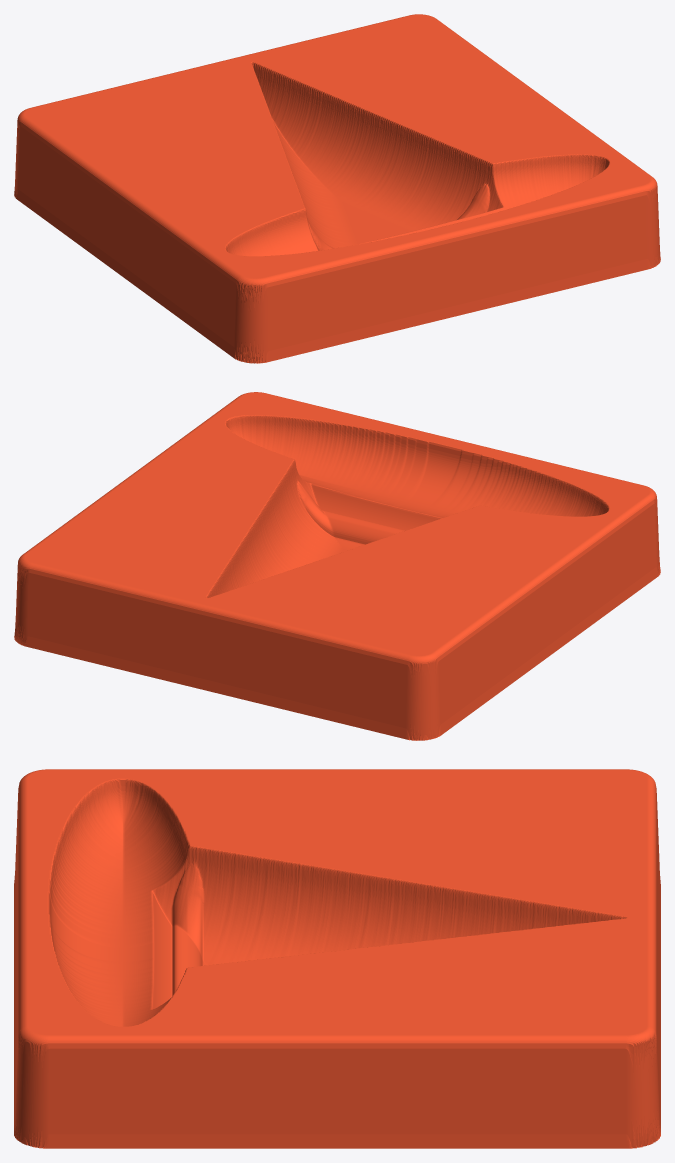
Rendered from mold.glb.
3 views of the same model, one above another, from view 1: azimuth 30°, elevation 25°; view 2: azimuth 150°, elevation 25°; view 3: azimuth 270°, elevation 25° (orthographic). The views are drawn at different scales.
Visible parts, largest first — view 1: geometry_0; view 2: geometry_0; view 3: geometry_0.
Boxes of the visible parts, x1,y1,x2,y2 form: geometry_0: (14, 14, 660, 363); geometry_0: (14, 392, 660, 740); geometry_0: (14, 769, 660, 1148).
Size of the model in its own units: 0.1709 by 0.031 by 0.1689.
